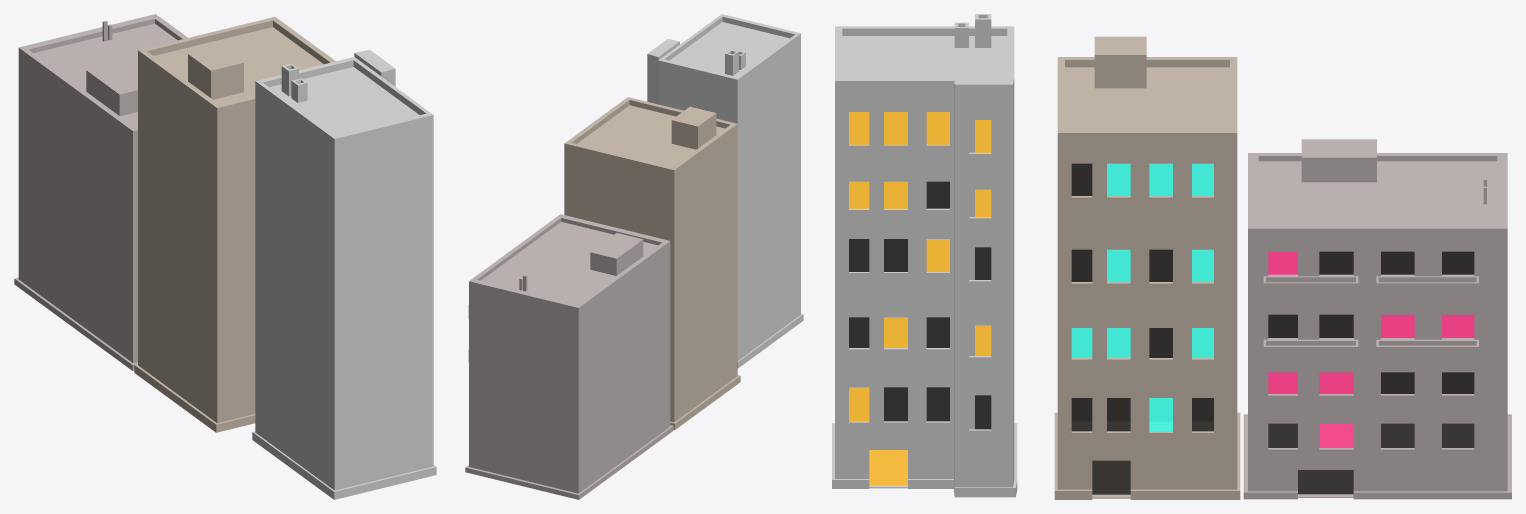
Rendered from immeubles.FBX.
3 renders of one model, left to right at view 1: azimuth 30°, elevation 25°; view 2: azimuth 150°, elevation 25°; view 3: azimuth 270°, elevation 25°, orthographic. The views are drawn at different scales.
Parts seen in each view (by area): view 1: immeuble3, IMMEUBLE1, immeuble2; view 2: immeuble2, IMMEUBLE1, immeuble3; view 3: immeuble2, immeuble3, IMMEUBLE1.
Boxes of the visible parts, <box> form: immeuble3: <box>252,49,436,499</box>; IMMEUBLE1: <box>134,17,335,432</box>; immeuble2: <box>14,14,187,370</box>; immeuble2: <box>465,214,673,499</box>; IMMEUBLE1: <box>564,97,740,429</box>; immeuble3: <box>647,14,803,368</box>; immeuble2: <box>1243,139,1511,499</box>; immeuble3: <box>832,14,1017,497</box>; IMMEUBLE1: <box>1054,36,1240,499</box>.
Size of the model in its own units: 22.19 by 52.68 by 75.79.
